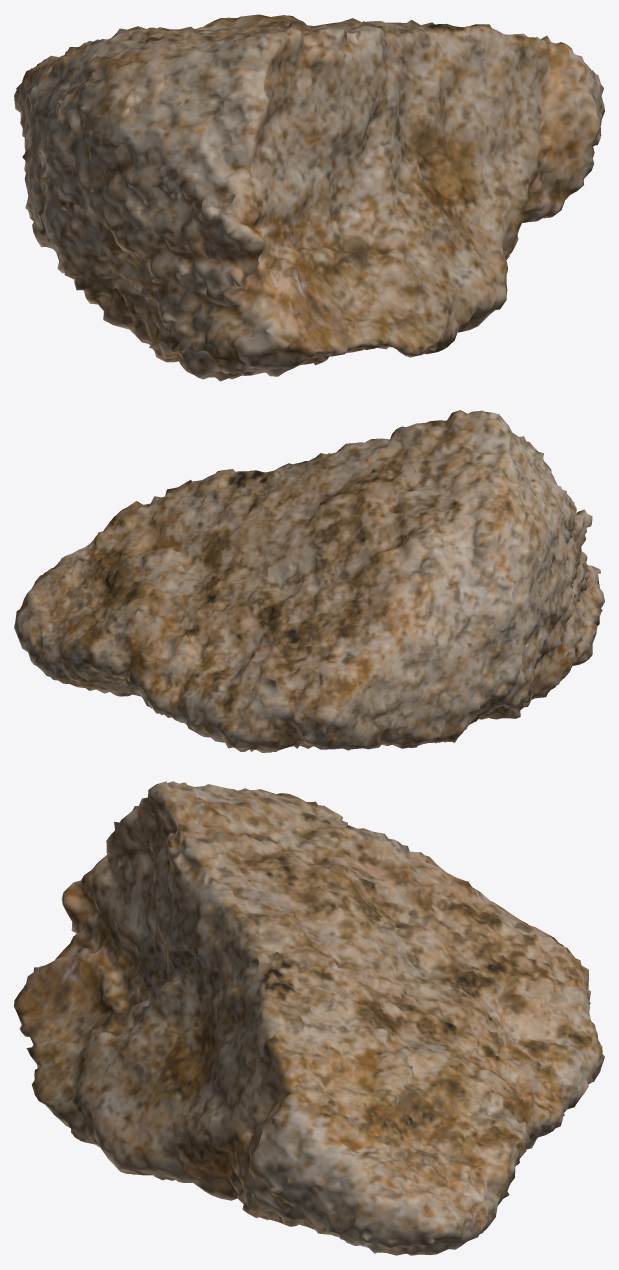
Rendered from rock_6.obj.
The picture shows the model from 3 angles, top to bottom: view 1: azimuth 30°, elevation 25°; view 2: azimuth 150°, elevation 25°; view 3: azimuth 270°, elevation 25°; orthographic projection. The views are drawn at different scales.
Visible parts, largest first — view 1: namaqualand_stones_01_c_LOD0; view 2: namaqualand_stones_01_c_LOD0; view 3: namaqualand_stones_01_c_LOD0.
Part boxes in pixels (left/top/right/bottom): namaqualand_stones_01_c_LOD0: left=14, top=14, right=604, bottom=381; namaqualand_stones_01_c_LOD0: left=14, top=410, right=604, bottom=752; namaqualand_stones_01_c_LOD0: left=14, top=781, right=604, bottom=1255.
Size of the model in its own units: 0.1038 by 0.0572 by 0.0979.
